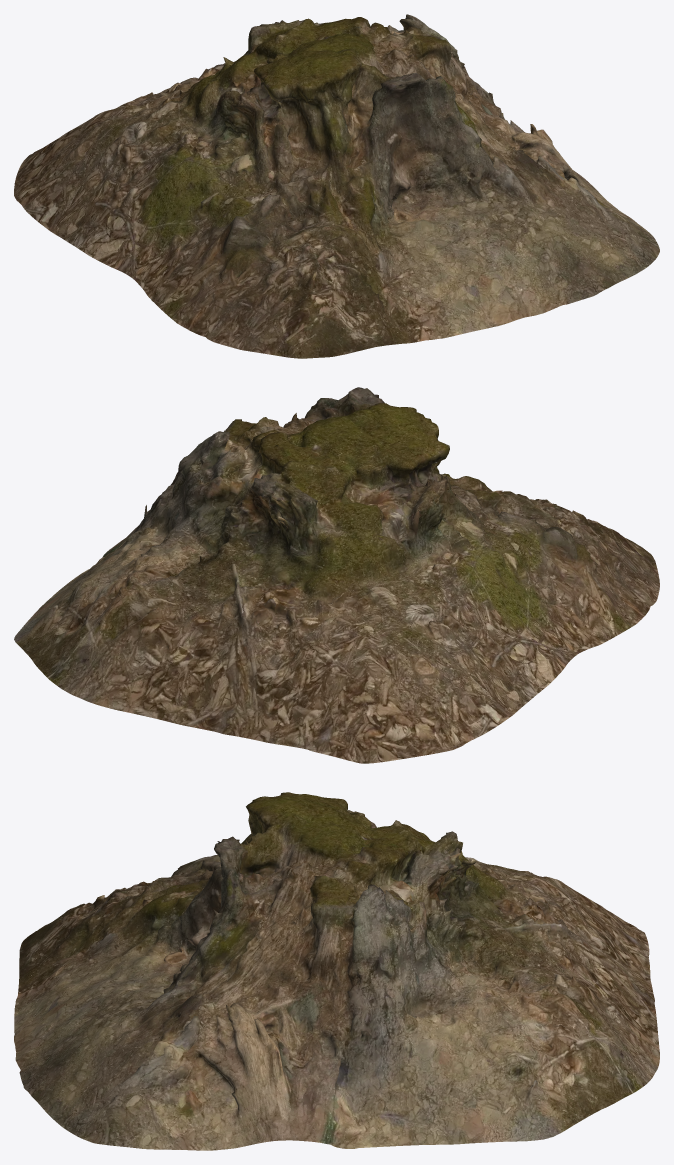
Rendered from tree_stump_01.glb.
The picture shows the model from 3 angles, top to bottom: view 1: azimuth 30°, elevation 25°; view 2: azimuth 150°, elevation 25°; view 3: azimuth 270°, elevation 25°; orthographic projection. The views are drawn at different scales.
Parts seen in each view (by area): view 1: tree_stump_01; view 2: tree_stump_01; view 3: tree_stump_01.
Part boxes in pixels (x1,y1,x2,y2): tree_stump_01: (14,14,659,358); tree_stump_01: (14,387,659,763); tree_stump_01: (14,792,659,1150).
Bounding box in the file's own units: 1.43 × 0.5726 × 1.59.
Materials: 1 (1 with a texture image).
